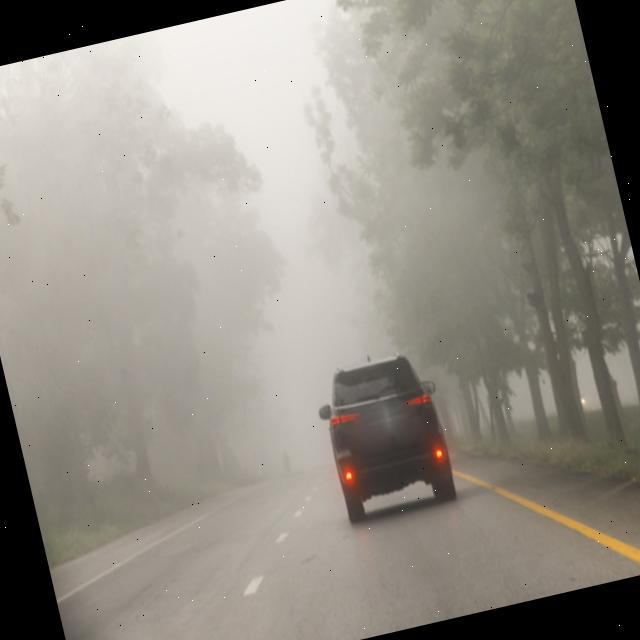car: (309, 348, 466, 528)
